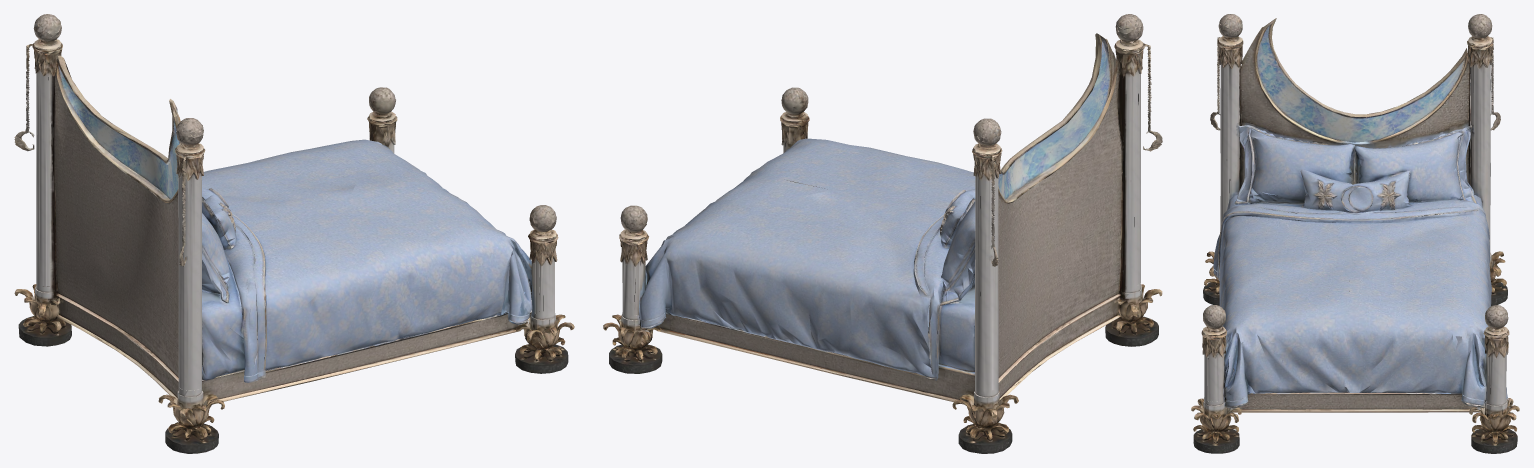
The model's file is SE-05_bed_game.glb.
3 renders of one model, left to right at view 1: azimuth 30°, elevation 25°; view 2: azimuth 150°, elevation 25°; view 3: azimuth 270°, elevation 25°, orthographic. The views are drawn at different scales.
Parts seen in each view (by area): view 1: SE-05_bed; view 2: SE-05_bed; view 3: SE-05_bed.
Part boxes in pixels (x1=…): SE-05_bed: x1=14, y1=14, x2=574, y2=453; SE-05_bed: x1=603, y1=14, x2=1162, y2=453; SE-05_bed: x1=1191, y1=14, x2=1519, y2=453.
Size of the model in its own units: 2.15 by 1.7 by 1.79.
1 material, 1 textured.
